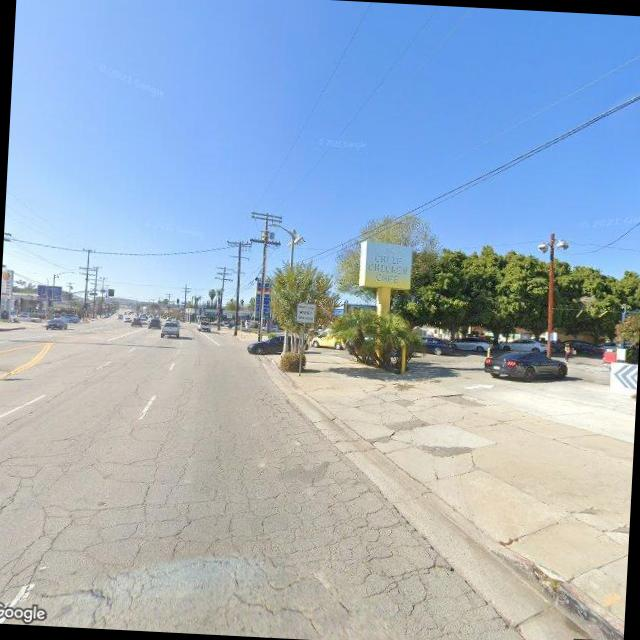crack: (0, 385, 525, 640)
